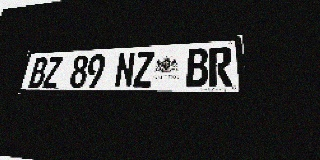8: (69, 55, 90, 88)
9: (85, 54, 106, 88)
B: (186, 48, 208, 87), (28, 57, 49, 88)
N: (114, 52, 136, 87)
R: (209, 47, 233, 87)
Z: (133, 51, 154, 87), (42, 56, 63, 88)
